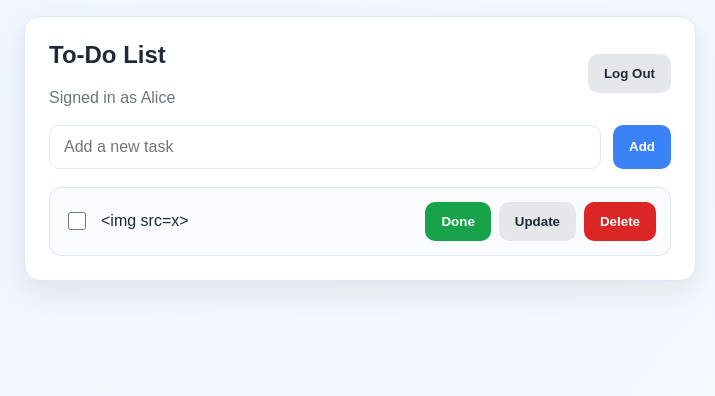
Test: renders tasks safely and sends the CSRF token when creating a task
Expected: the text "<img src=x>" is shown, [101,212,189,230]
Type "New task" into the field labelled "new task" at (325,147), box [49,125,601,169]
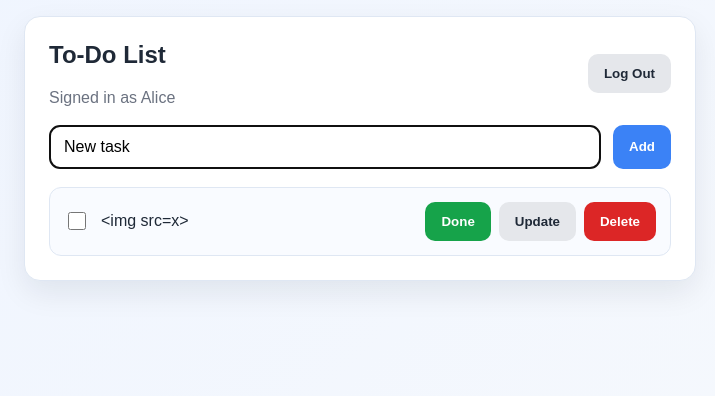
Click the button "Add" at (642,147), box [613,125,671,169]
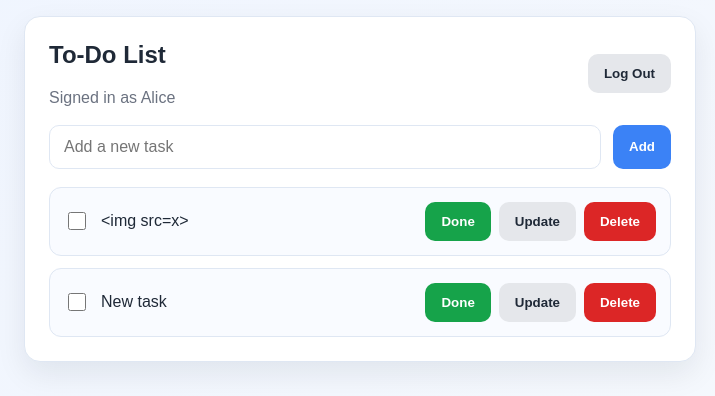
Expected: the form named "_csrf" holds "test-csrf", [588,54,671,94]
Expected: the text "New task" is shown, [101,293,167,311]
